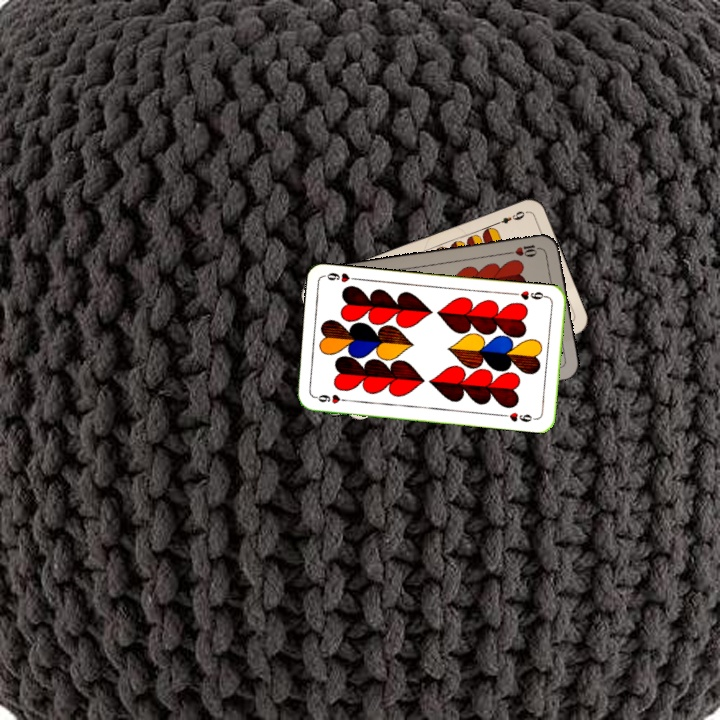E9: (491, 207, 530, 228)
H10: (504, 240, 544, 259)
H9: (311, 390, 351, 406), (510, 287, 550, 302)
